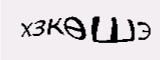В: (30, 16, 47, 36)
К: (109, 15, 129, 34)
Н: (89, 12, 107, 34)
Т: (70, 13, 89, 34)
Ш: (46, 13, 69, 34)
